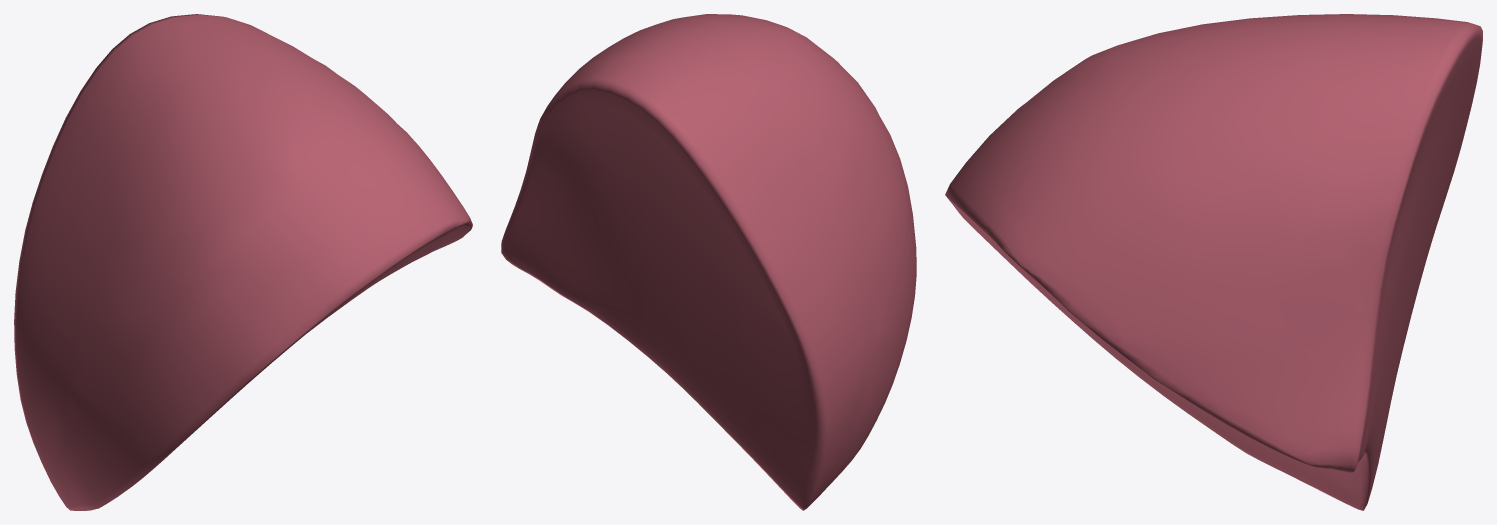
The picture shows the model from 3 angles, left to right: view 1: azimuth 30°, elevation 25°; view 2: azimuth 150°, elevation 25°; view 3: azimuth 270°, elevation 25°; orthographic projection. The views are drawn at different scales.
Visible parts, largest first — view 1: 肝右后叶上段（第7段）; view 2: 肝右后叶上段（第7段）; view 3: 肝右后叶上段（第7段）.
Boxes of the visible parts, x1=… form: 肝右后叶上段（第7段）: x1=14, y1=14, x2=472, y2=510; 肝右后叶上段（第7段）: x1=501, y1=14, x2=916, y2=510; 肝右后叶上段（第7段）: x1=945, y1=14, x2=1482, y2=510.
Bounding box in the file's own units: 0.1373 × 0.1568 × 0.1326.
